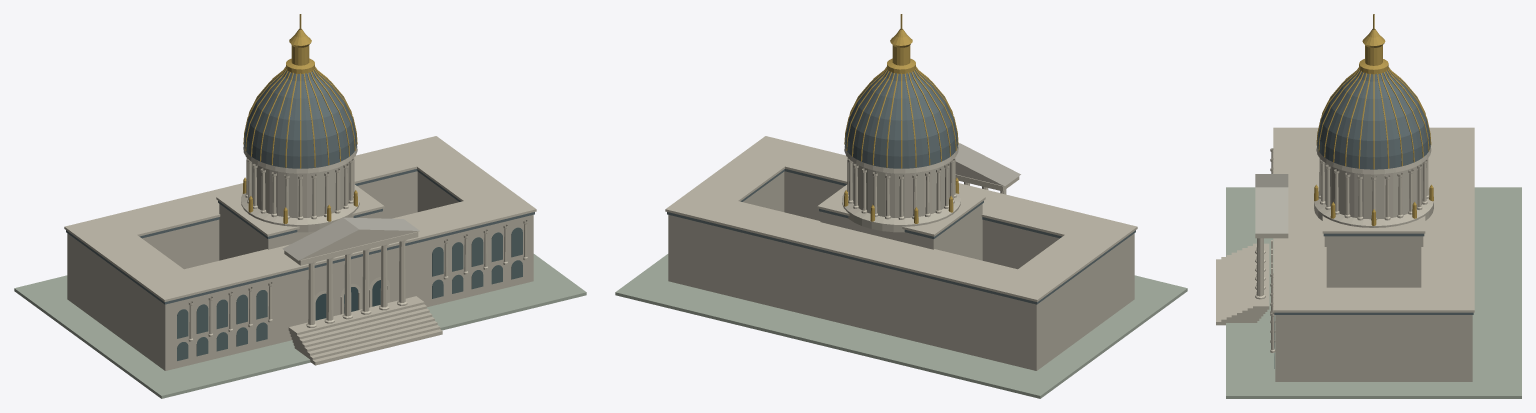
File: sfCityHall.glb
3 views of the same model, side by side, from view 1: azimuth 30°, elevation 25°; view 2: azimuth 150°, elevation 25°; view 3: azimuth 270°, elevation 25° (orthographic).
Parts seen in each view (by area): view 1: sf-city-hall-courts-and-gilded-dome; view 2: sf-city-hall-courts-and-gilded-dome; view 3: sf-city-hall-courts-and-gilded-dome.
Part boxes in pixels (left/top/right/bottom): sf-city-hall-courts-and-gilded-dome: left=14, top=14, right=586, bottom=398; sf-city-hall-courts-and-gilded-dome: left=615, top=14, right=1187, bottom=398; sf-city-hall-courts-and-gilded-dome: left=1216, top=14, right=1521, bottom=398.
Bounding box in the file's own units: 30 × 18.8 × 18.6.
